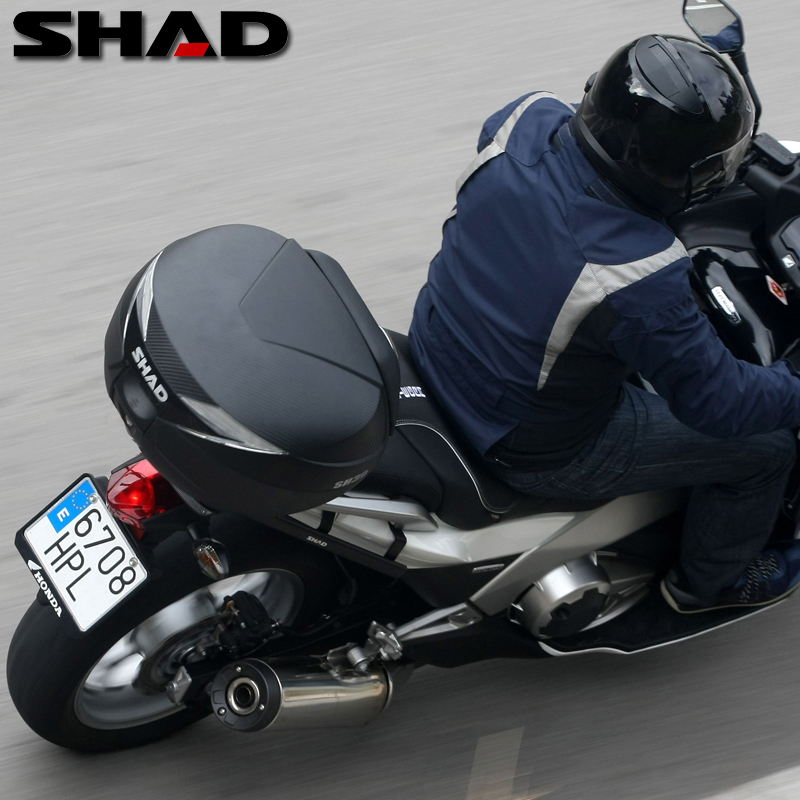电动车: (6, 1, 795, 760)
